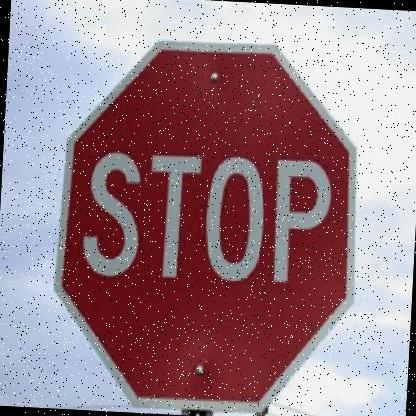stop: (42, 29, 368, 415)
